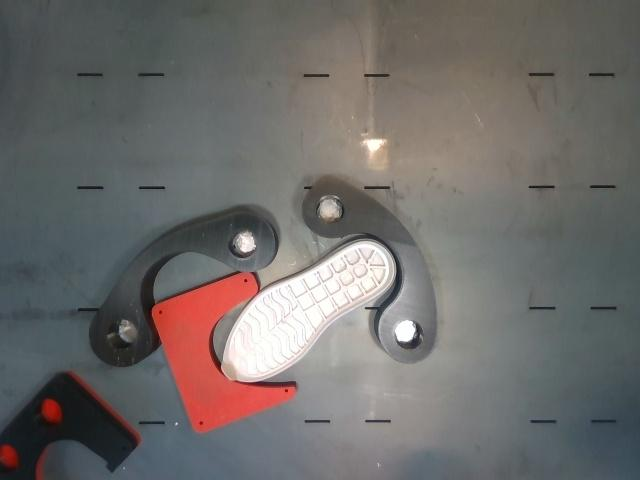shoes: (222, 241, 395, 382)
